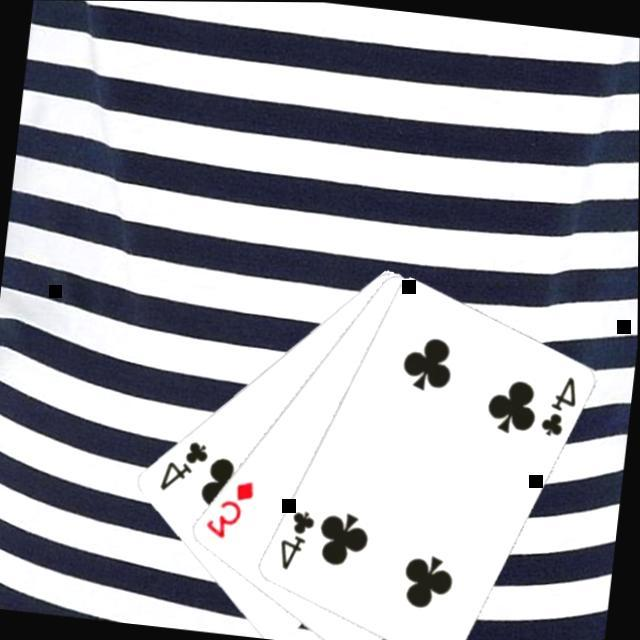3D: (199, 473, 256, 544)
4C: (153, 433, 210, 497), (532, 370, 579, 443), (272, 506, 317, 576)
